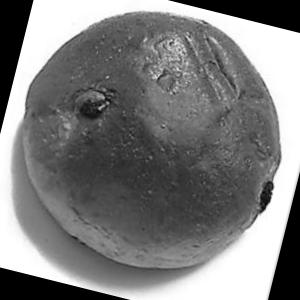bread: (0, 0, 300, 297)
